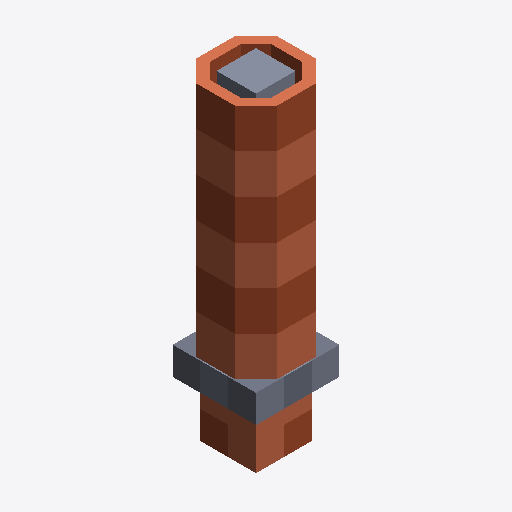
A Minecraft block model of 11 cuboids, rendered isometrically (azimuth 45°, elevation 35.3°) with the resource pack's own textures.
Visible parts, largest first — element 7, element 3, element 6, element 2, element 1, element 11, element 4, element 5.
Boxes of the visible parts, <box> form: element 7: <box>235,98,276,378</box>; element 3: <box>268,77,315,378</box>; element 6: <box>196,80,239,378</box>; element 2: <box>173,332,338,424</box>; element 1: <box>200,393,311,472</box>; element 11: <box>217,48,294,97</box>; element 4: <box>196,36,244,83</box>; element 5: <box>267,36,315,83</box>.
Bounding box in the file's own units: 3 × 11.53 × 3.